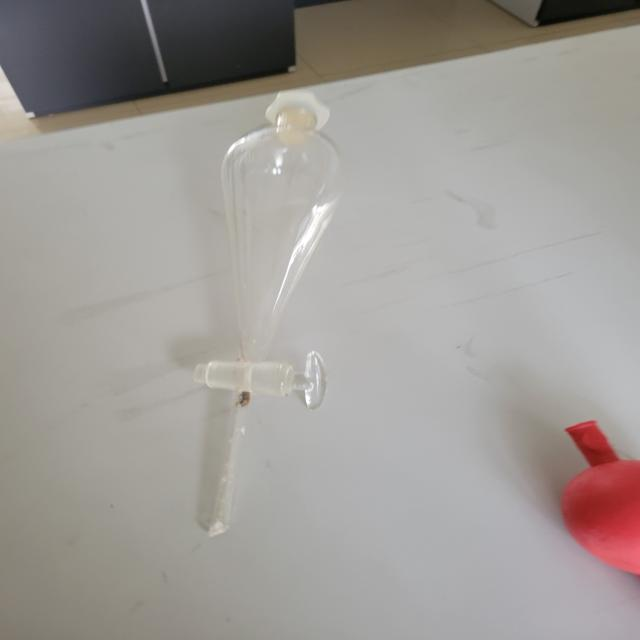Separating_Funnel: (142, 56, 382, 570)
